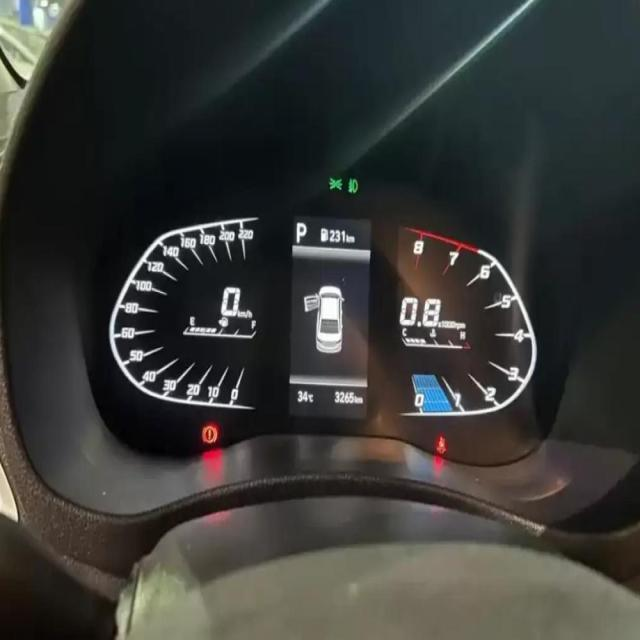Seat Belt: (436, 436, 446, 454)
